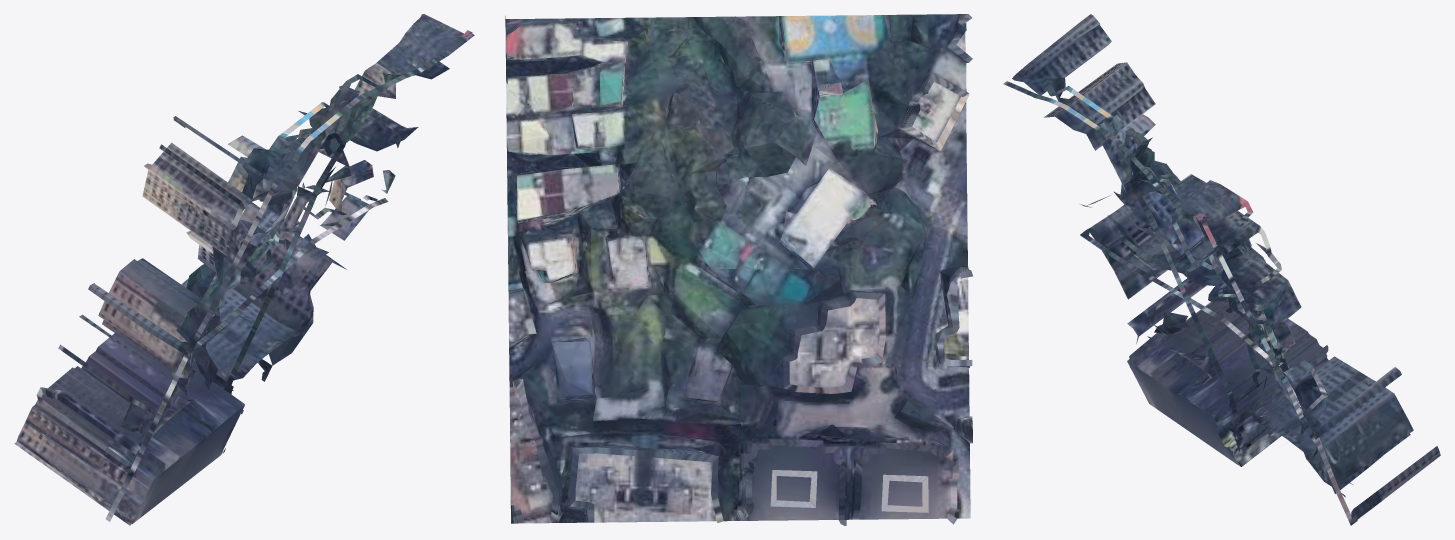
3 renders of one model, left to right at view 1: azimuth 30°, elevation 25°; view 2: azimuth 150°, elevation 25°; view 3: azimuth 270°, elevation 25°, orthographic. The views are drawn at different scales.
Size of the model in its own units: 168 by 159 by 160.
Materials: 2 (2 with a texture image).
